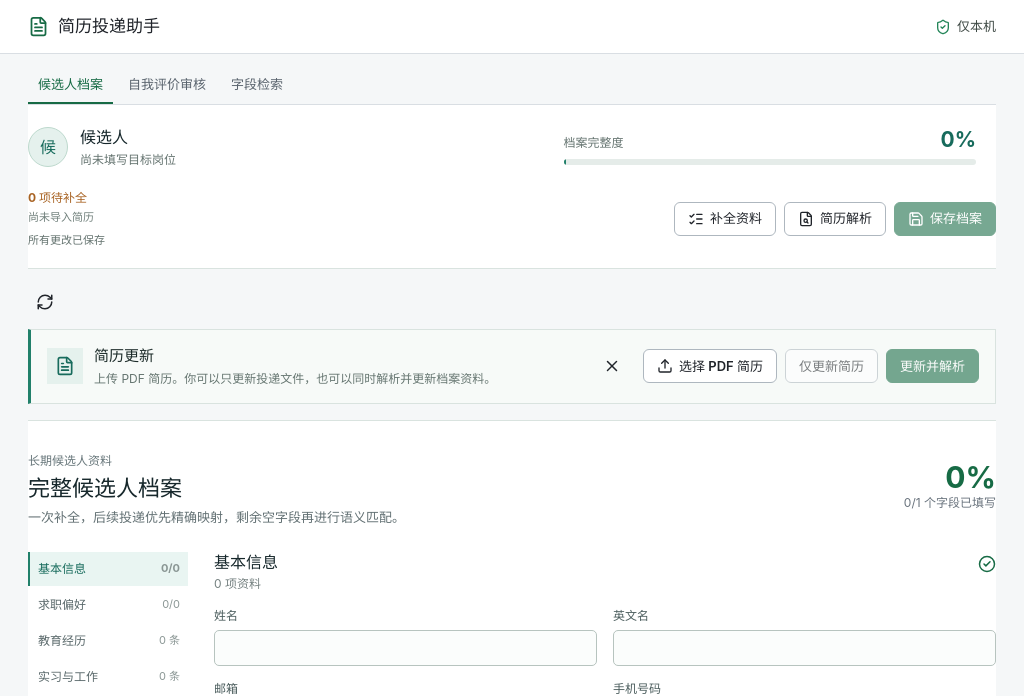
Test: self-evaluation review view › renders only the newest task when A and B loads resolve out of order
Click the button "自我评价审核".
click(167, 86)  # box [118,68,216,104]
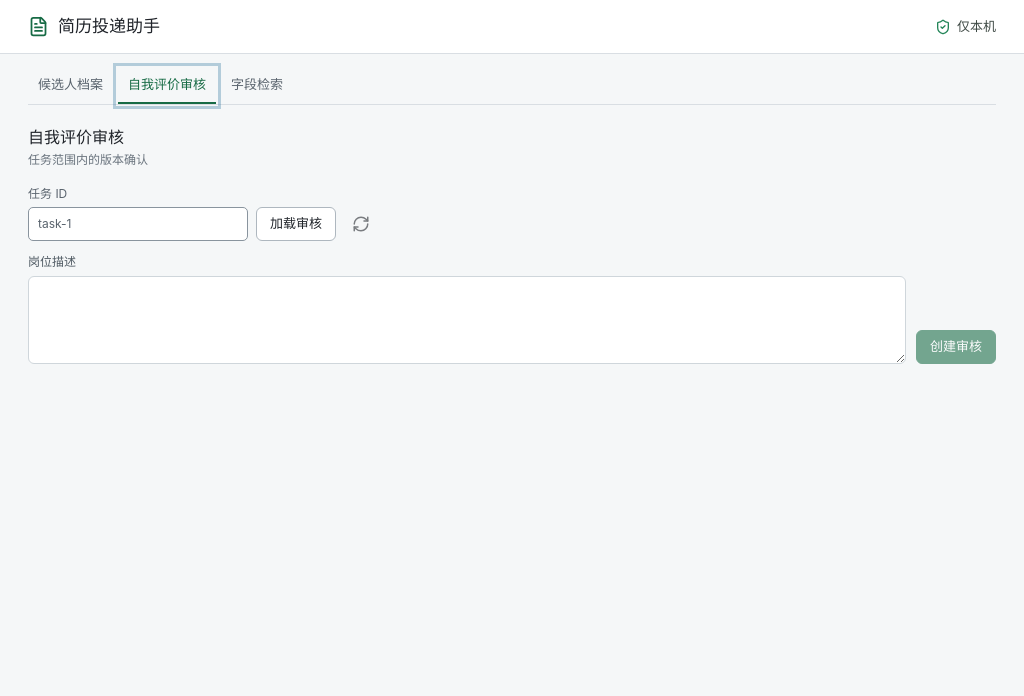
Replace the text in the field labelled "任务 ID" with "A" at {"x": 138, "y": 224}, box [28,207,248,241]
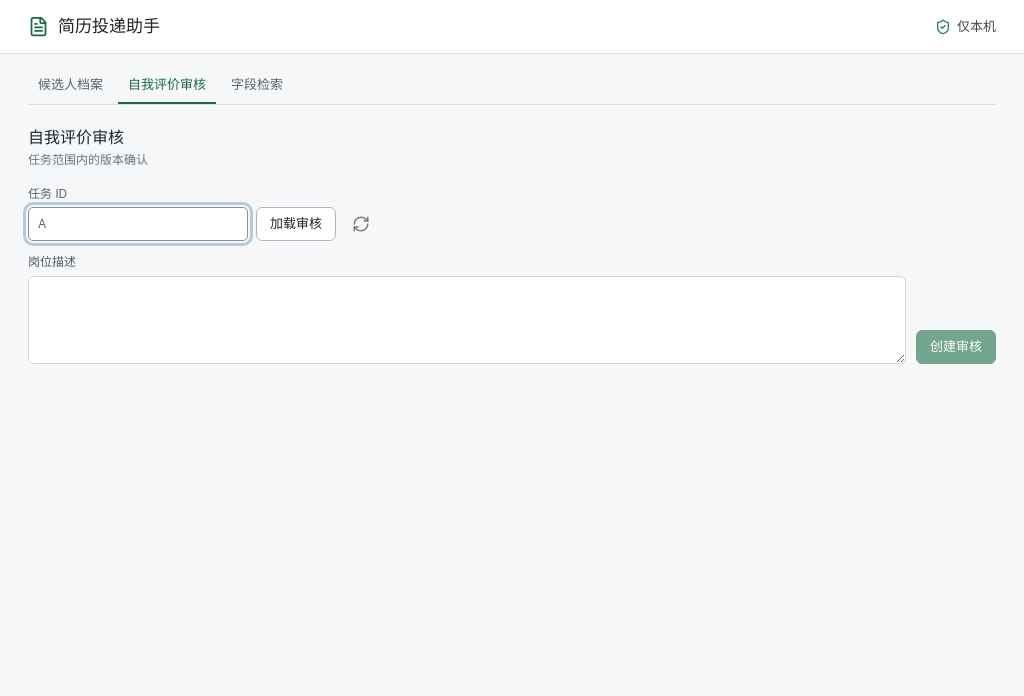
Click the button "加载审核".
click(296, 224)  # box [256,207,336,241]
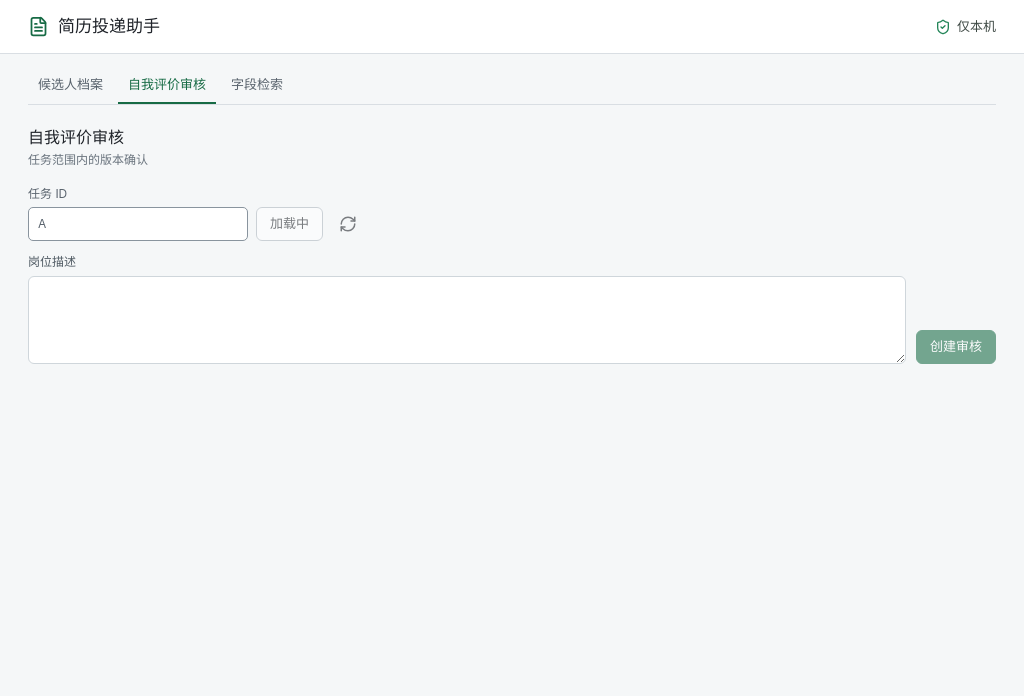
Replace the text in the field labelled "任务 ID" with "B" at {"x": 138, "y": 224}, box [28,207,248,241]
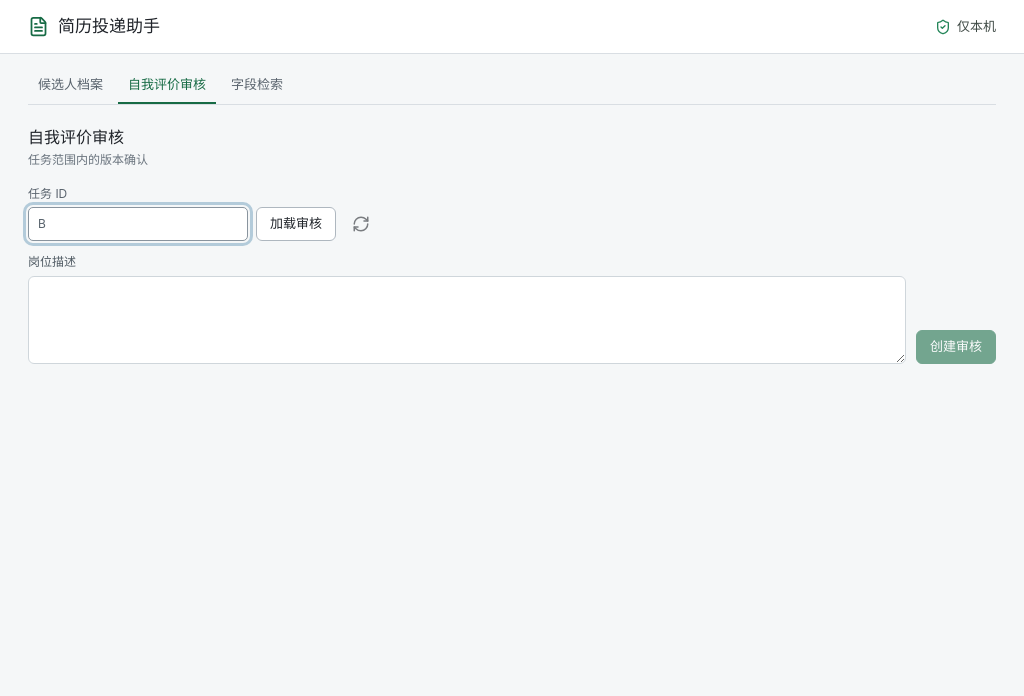
Click the button "加载审核".
click(296, 224)  # box [256,207,336,241]
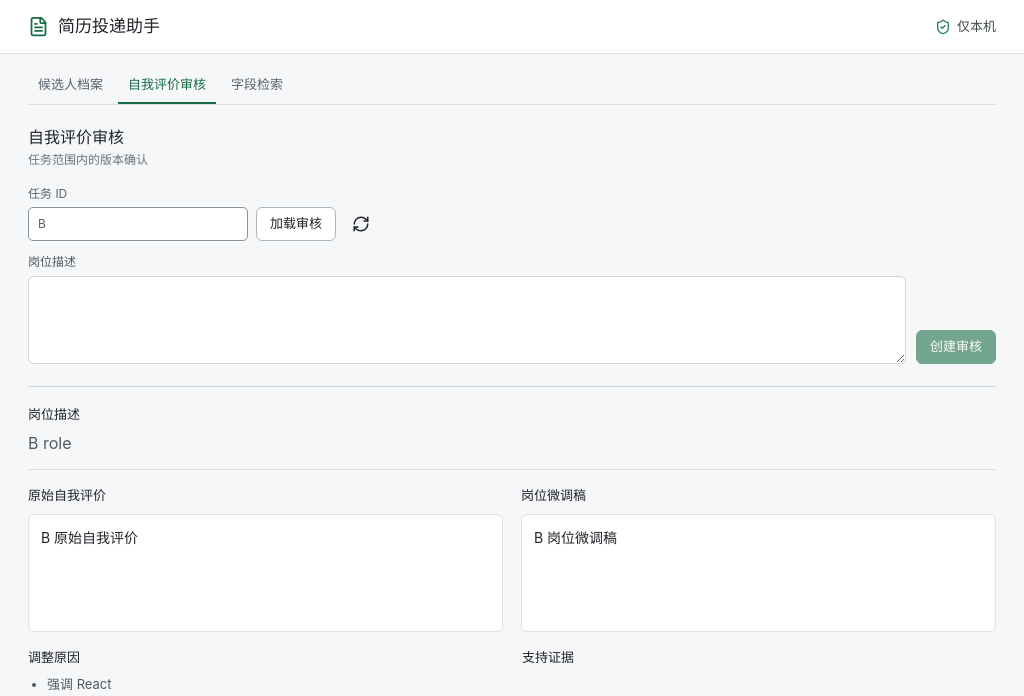
Check: the text "B 岗位微调稿" is shown, box [521,514,996,632]
